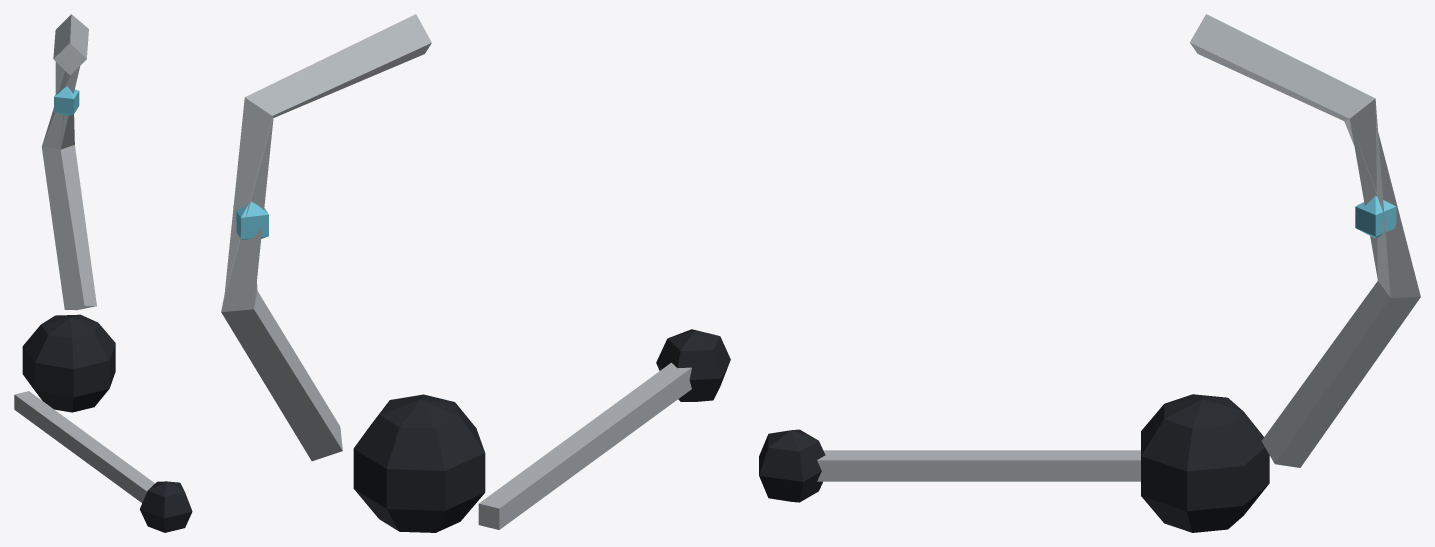
The model's file is commlink-hands-free.glb.
3 renders of one model, left to right at view 1: azimuth 30°, elevation 25°; view 2: azimuth 150°, elevation 25°; view 3: azimuth 270°, elevation 25°, orthographic. The views are drawn at different scales.
Visible parts, largest first — view 1: m; view 2: m; view 3: m.
Part boxes in pixels (left/top/right/bottom): m: left=14, top=14, right=192, bottom=532; m: left=221, top=14, right=730, bottom=532; m: left=759, top=14, right=1420, bottom=532.
Bounding box in the file's own units: 0.0284 × 0.07 × 0.0804.
